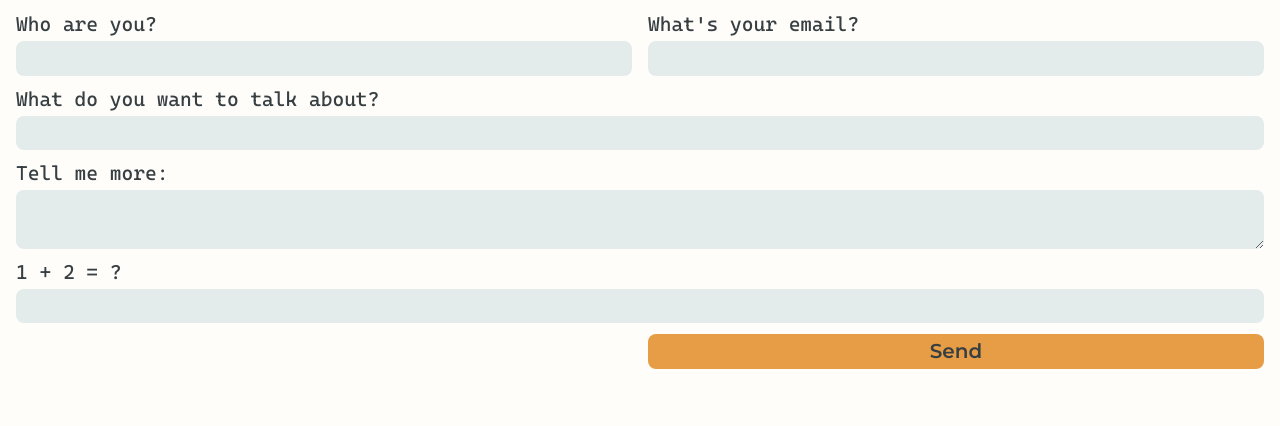
Test case: component/contact/Form › Form › checks if the user is a human using simple math
Type "a name" into the field labelled "Who are you?" at (324, 59), box [16, 41, 632, 76]
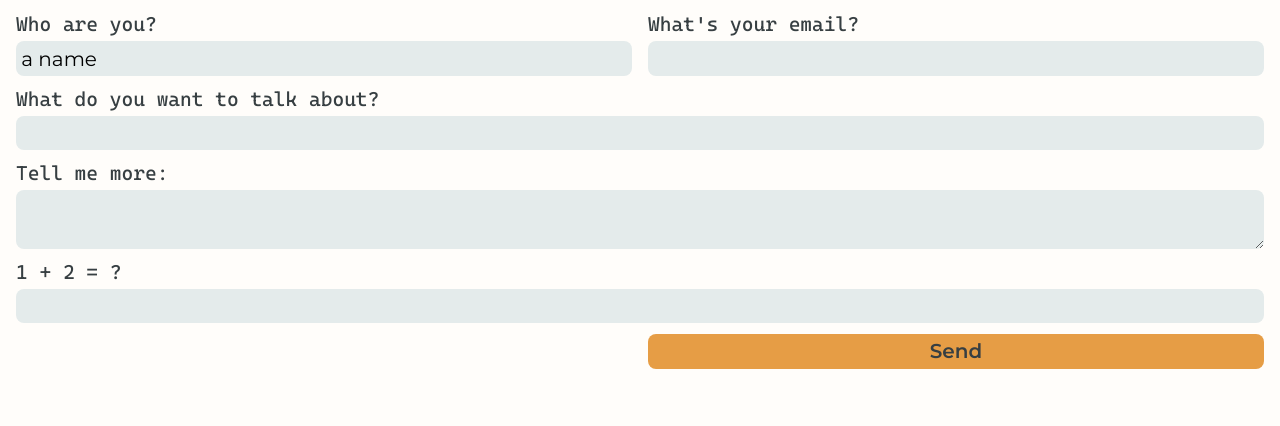
Type "an@email.address" into the field labelled "What's your email?" at (956, 59), box [648, 41, 1264, 76]
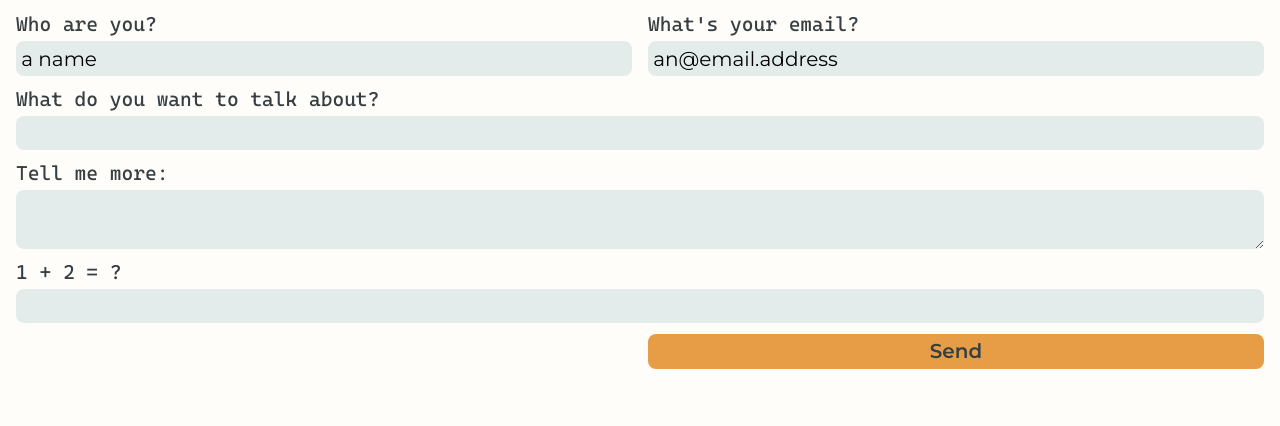
Type "a message" into the text box labelled "Tell me more:" at (640, 220), box [16, 190, 1264, 249]
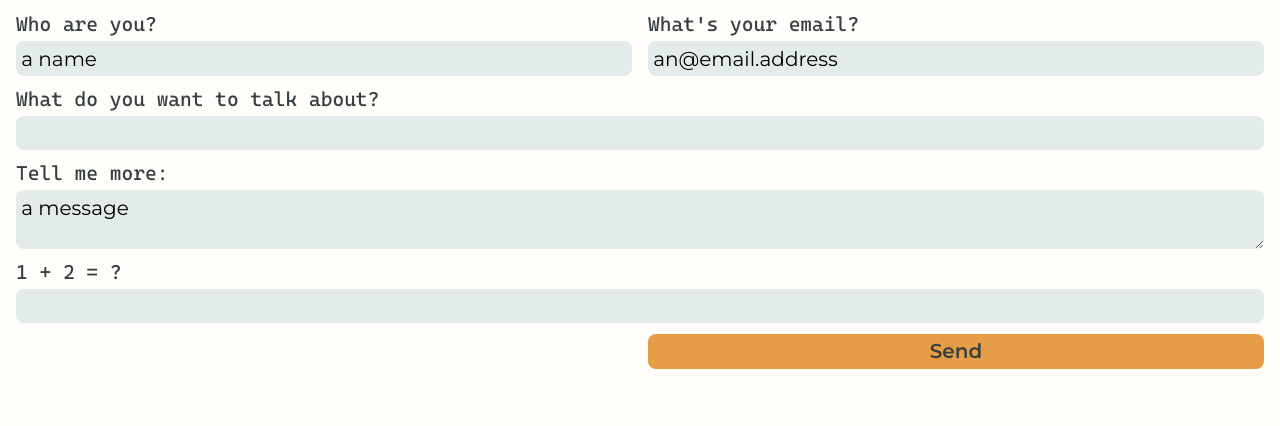
Type "4" into the field labelled "1 + 2 = ?" at (640, 306), box [16, 289, 1264, 323]
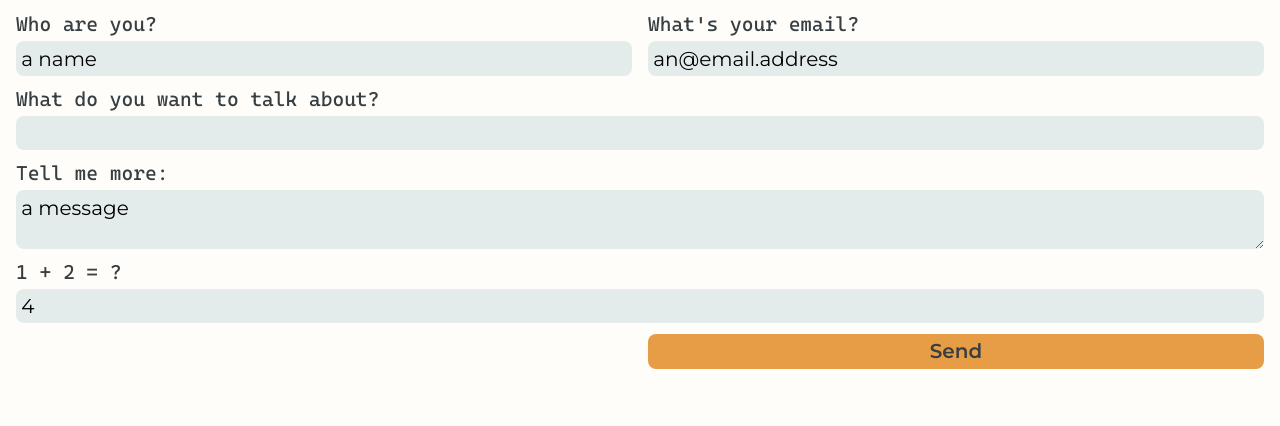
Click the button "Send" at (956, 351), box [648, 334, 1264, 369]
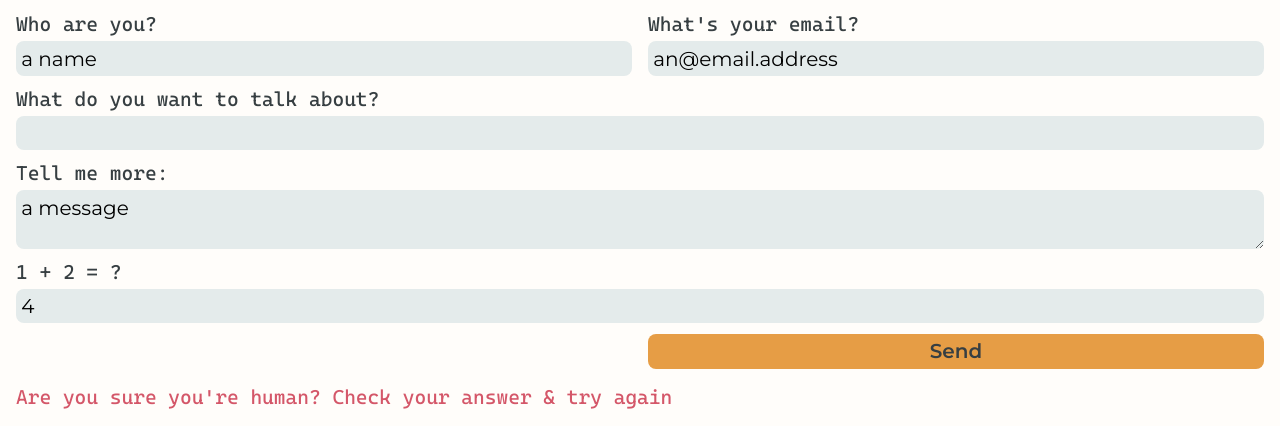
Now the text "Are you sure you're human? Check your answer & try again" is shown, box [16, 385, 672, 409]
